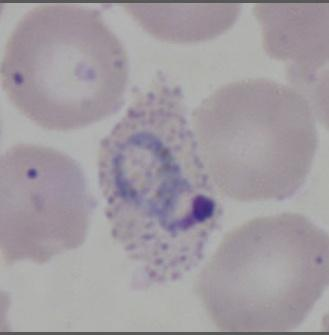Infected: (95, 71, 226, 297)
Uninfected: (199, 214, 329, 335), (192, 78, 317, 200), (2, 5, 128, 125), (0, 142, 91, 266)
